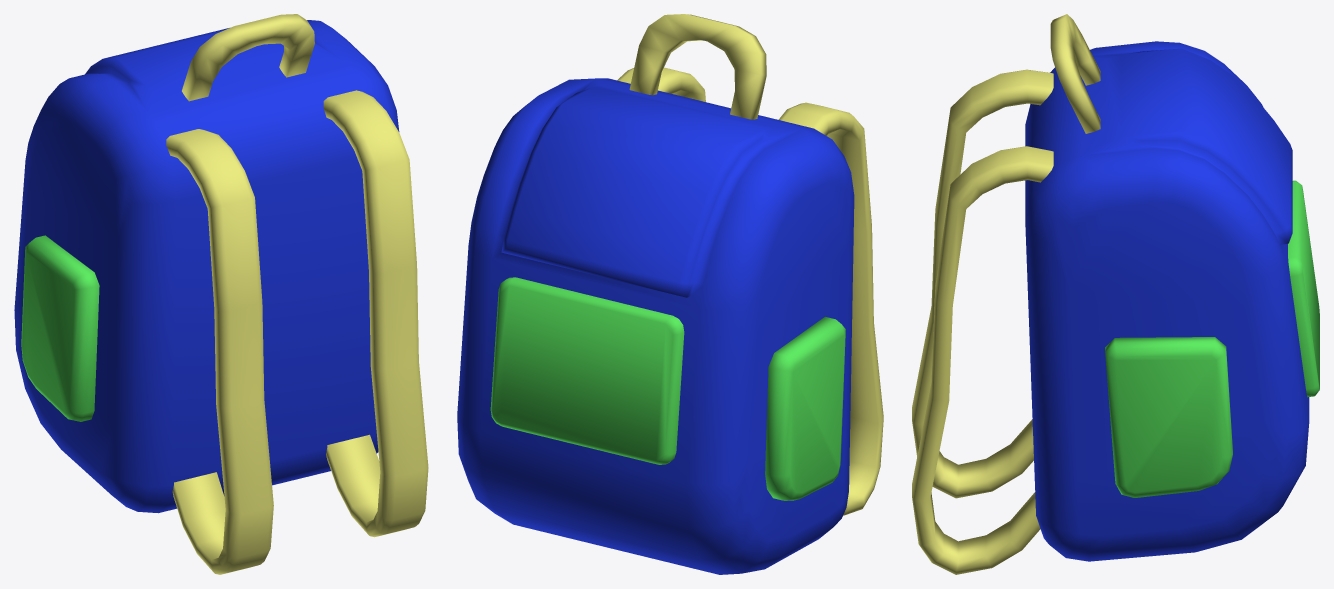
File: Backpack.fbx
The picture shows the model from 3 angles, left to right: view 1: azimuth 30°, elevation 25°; view 2: azimuth 150°, elevation 25°; view 3: azimuth 270°, elevation 25°; orthographic projection. The views are drawn at different scales.
Parts seen in each view (by area): view 1: Backpack; view 2: Backpack; view 3: Backpack.
Boxes of the visible parts, bbox=[...] form: Backpack: bbox=[14, 14, 428, 574]; Backpack: bbox=[457, 14, 883, 574]; Backpack: bbox=[912, 14, 1319, 574].
Bounding box in the file's own units: 2.17 × 3.23 × 2.39.
